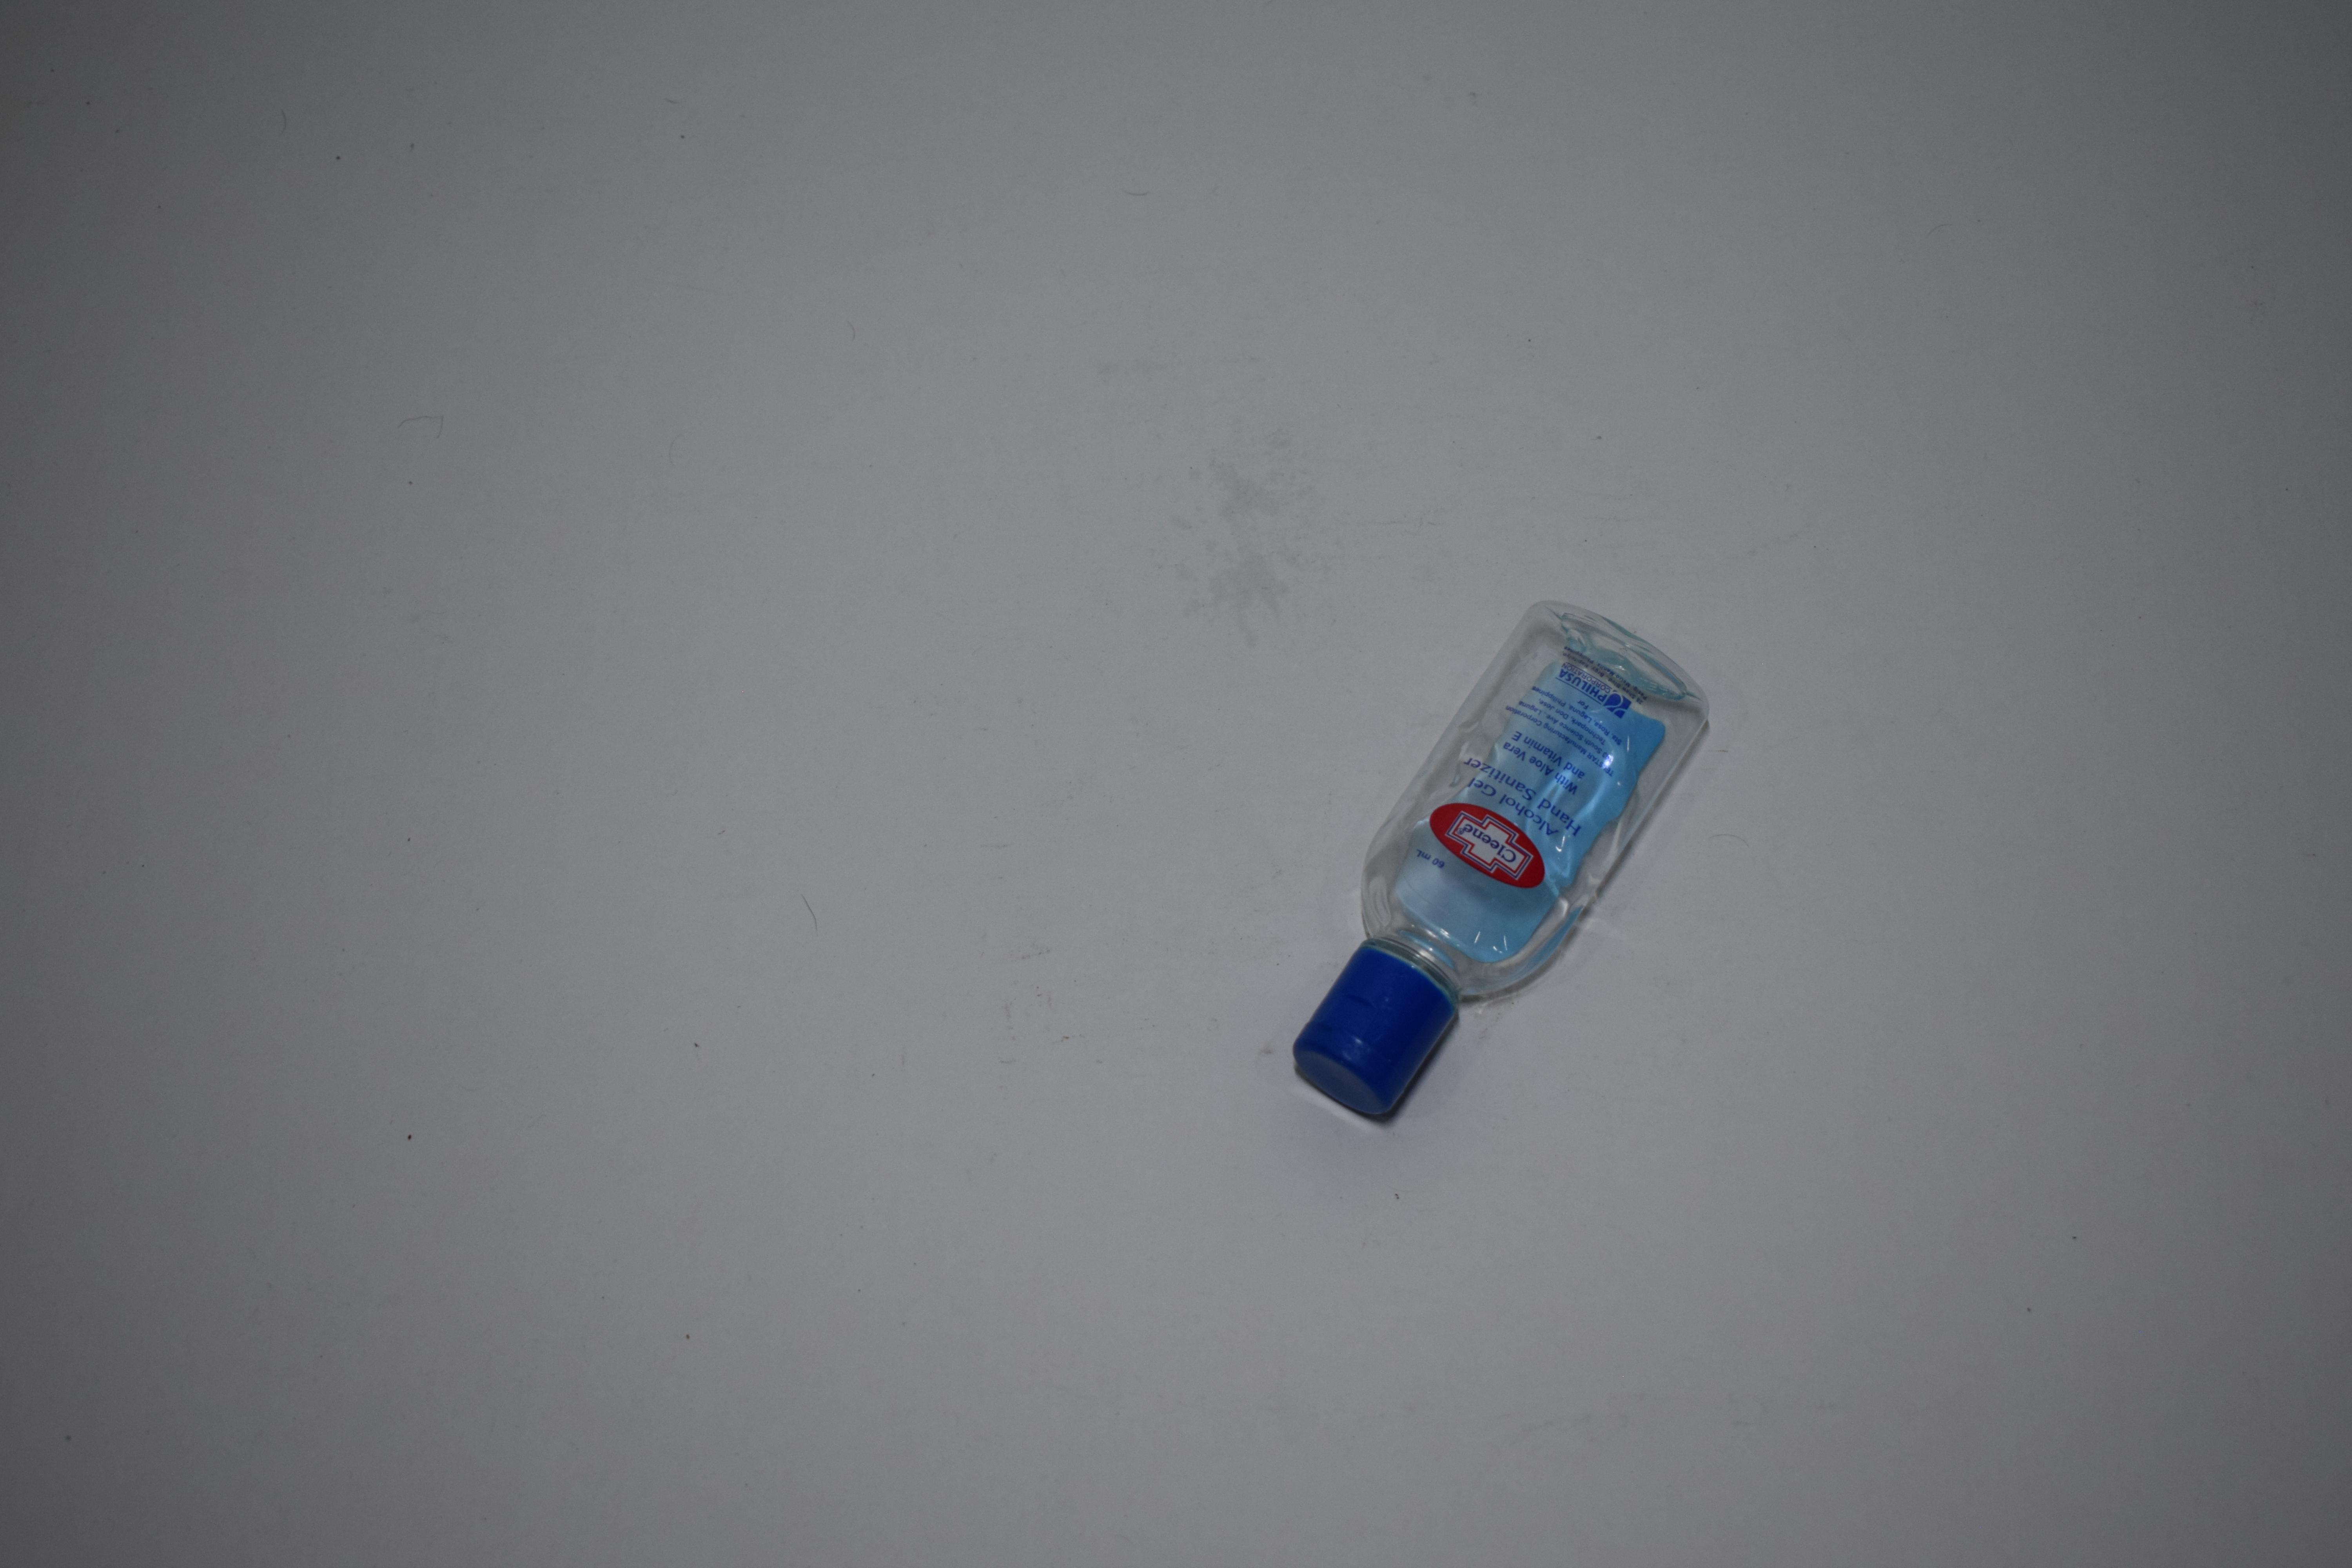bottle: (1281, 0, 1713, 313)
